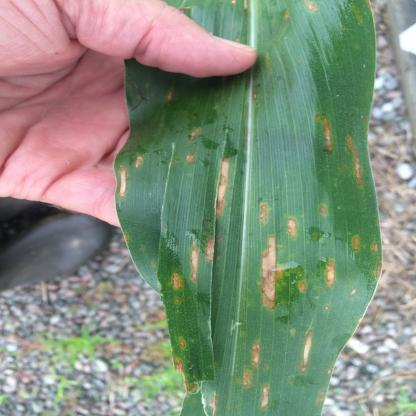Corn Gray leaf spot: (112, 82, 392, 416)
